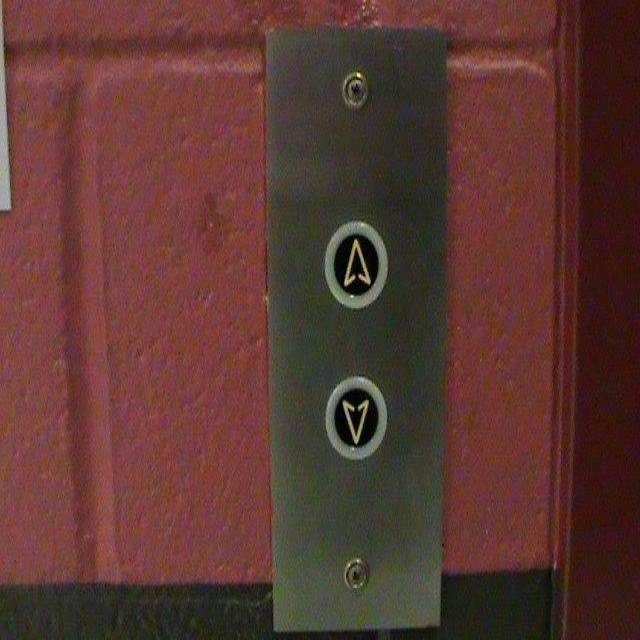down: (322, 372, 390, 464)
up: (321, 216, 389, 311)
